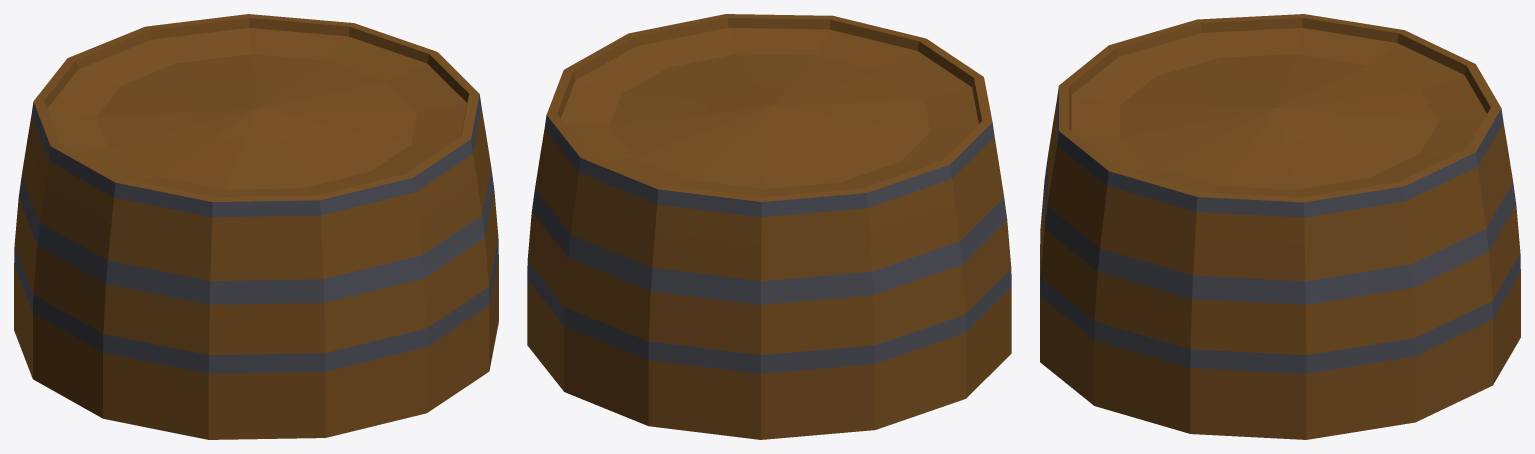
Rendered from chair.fbx.
The picture shows the model from 3 angles, left to right: view 1: azimuth 30°, elevation 25°; view 2: azimuth 150°, elevation 25°; view 3: azimuth 270°, elevation 25°; orthographic projection.
Visible parts, largest first — view 1: chair; view 2: chair; view 3: chair.
Boxes of the visible parts, x1,y1,x2,y2 form: chair: [14, 14, 498, 439]; chair: [527, 14, 1011, 439]; chair: [1040, 14, 1520, 439].
Bounding box in the file's own units: 140 × 73.26 × 139.
